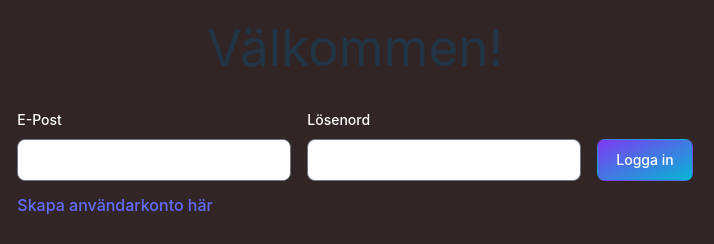
Test: login › Ska misslyckas att logga in när inget lösenord är ifyllt
The width and height of the screenshot is (714, 244).
Type "testuser@email.com" into the field with test id "email" at [154, 160], box [17,139,291,181]
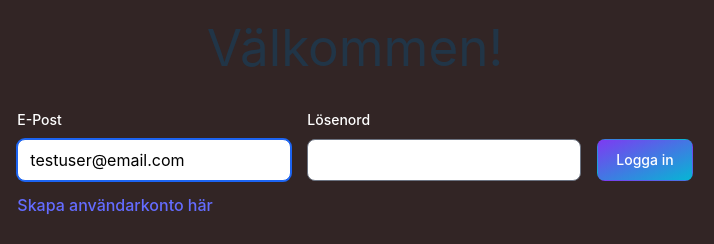
Click the button with test id "loginSubmit" at [645, 160], box [597,139,692,181]
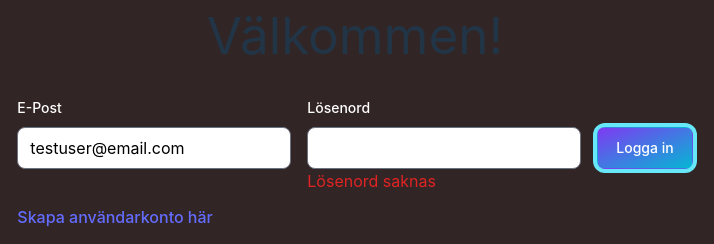
Now the text "Lösenord saknas" is shown, box [307,171,436,191]
